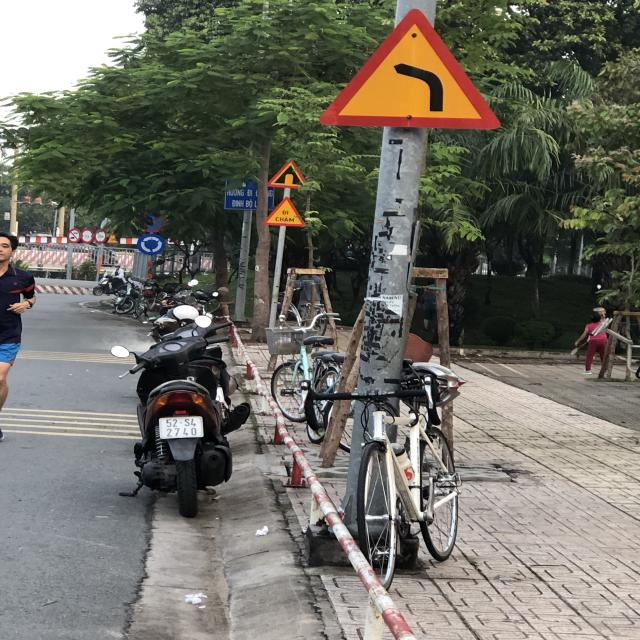Bien bao cho ngoat nguy hiem: (314, 8, 500, 133)
Bien bao di cham: (258, 193, 308, 229)
Bien bao noi giao nhau chay theo vong xuyen: (136, 232, 168, 255)
